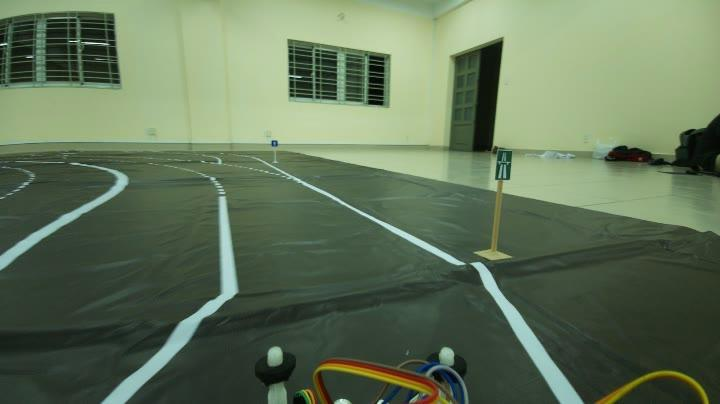highway_entry: (484, 140, 522, 189)
